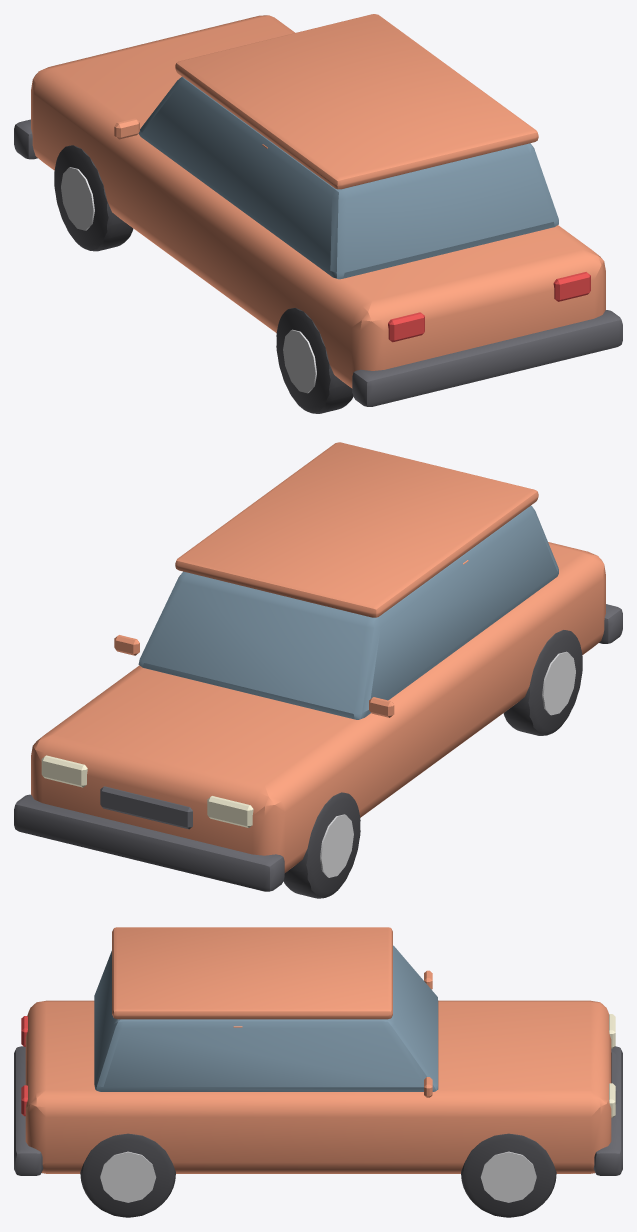
The model's file is car_hatchback.glb.
3 renders of one model, top to bottom at view 1: azimuth 30°, elevation 25°; view 2: azimuth 150°, elevation 25°; view 3: azimuth 270°, elevation 25°, orthographic. The views are drawn at different scales.
Visible parts, largest first — view 1: body, wheel_fl, wheel_rl; view 2: body, wheel_rl, wheel_fl; view 3: body, wheel_fr, wheel_rr.
Boxes of the visible parts, left/top/right/bottom form: body: left=14, top=14, right=622, bottom=406; wheel_fl: left=54, top=145, right=133, bottom=251; wheel_rl: left=276, top=307, right=353, bottom=413; body: left=14, top=442, right=622, bottom=891; wheel_rl: left=503, top=630, right=582, bottom=735; wheel_fl: left=283, top=792, right=360, bottom=898; body: left=14, top=927, right=622, bottom=1175; wheel_fr: left=461, top=1133, right=556, bottom=1217; wheel_rr: left=80, top=1133, right=175, bottom=1217.
Size of the model in its own units: 1.88 by 1.5 by 4.16.
